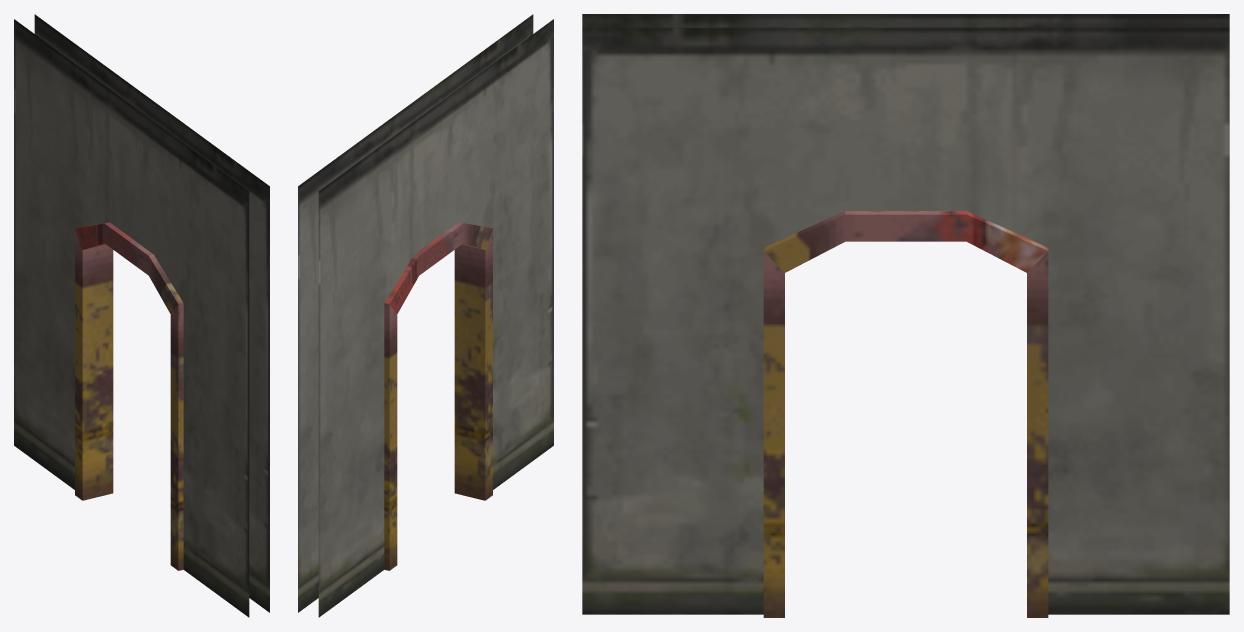
The model's file is SM_WALL_S_09.fbx.
3 views of the same model, side by side, from view 1: azimuth 30°, elevation 25°; view 2: azimuth 150°, elevation 25°; view 3: azimuth 270°, elevation 25° (orthographic). The views are drawn at different scales.
Parts seen in each view (by area): view 1: SM_WALL_S_09; view 2: SM_WALL_S_09; view 3: SM_WALL_S_09.
Part boxes in pixels (left/top/right/bottom): SM_WALL_S_09: left=14, top=14, right=269, bottom=617; SM_WALL_S_09: left=298, top=14, right=553, bottom=617; SM_WALL_S_09: left=582, top=14, right=1229, bottom=617.
Size of the model in its own units: 0.3 by 4 by 4.
